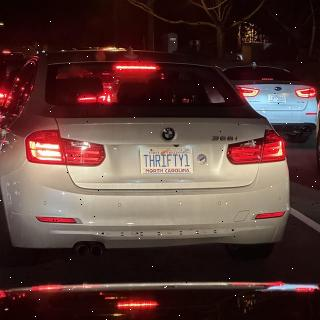license: (140, 148, 195, 176)
